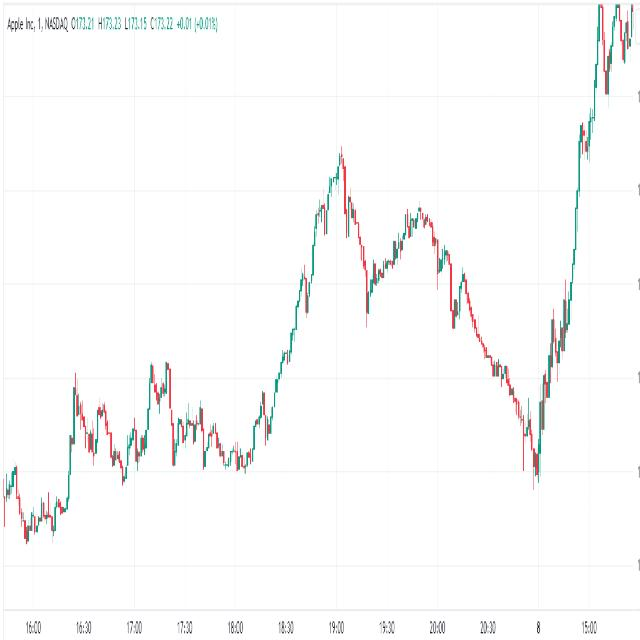Descending-Triangle: (57, 259, 286, 499), (290, 100, 485, 339)
